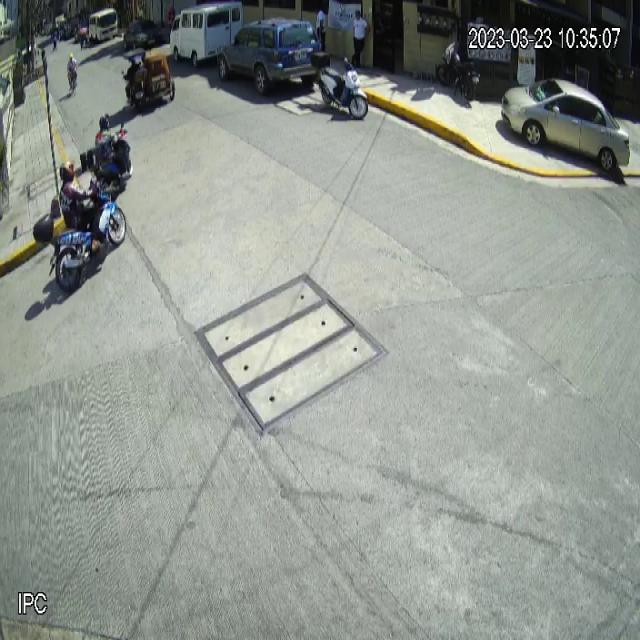Car: (500, 76, 631, 175), (216, 16, 321, 97)
Motorcycle: (34, 178, 126, 294), (310, 49, 370, 121)
Tricycle: (120, 46, 176, 112)
Van: (169, 0, 244, 71)
